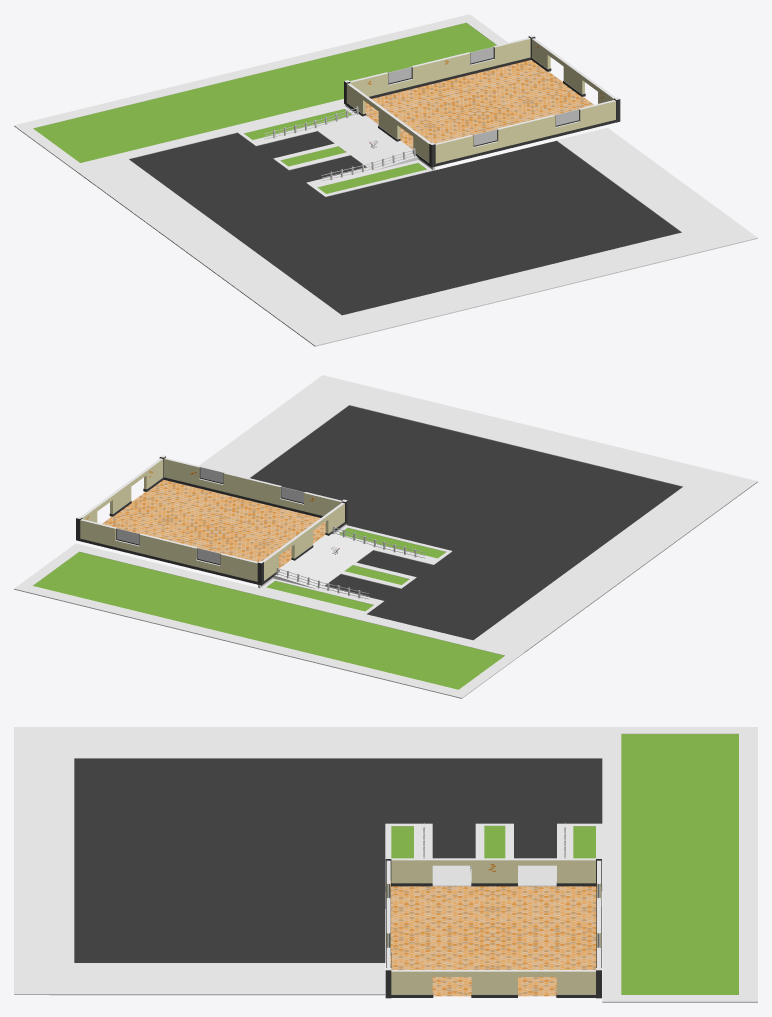
File: main map.fbx
3 views of the same model, one above another, from view 1: azimuth 30°, elevation 25°; view 2: azimuth 150°, elevation 25°; view 3: azimuth 270°, elevation 25° (orthographic). The views are drawn at different scales.
Visible parts, largest first — view 1: Plane.002, floor, walls, wallFloorInter; view 2: Plane.002, floor, walls, wallFloorInter; view 3: Plane.002, floor, walls, wallFloorInter.
Part boxes in pixels (<box>): Plane.002: <box>14,14,757,346</box>; floor: <box>365,60,593,149</box>; walls: <box>344,35,620,167</box>; wallFloorInter: <box>346,57,616,166</box>; Plane.002: <box>14,375,757,698</box>; floor: <box>102,480,325,568</box>; walls: <box>76,455,347,585</box>; wallFloorInter: <box>80,477,345,584</box>; Plane.002: <box>14,727,757,1002</box>; floor: <box>391,886,596,996</box>; walls: <box>385,856,601,998</box>; wallFloorInter: <box>385,881,601,997</box>.
Bounding box in the file's own units: 35506 × 1969 × 40643.
